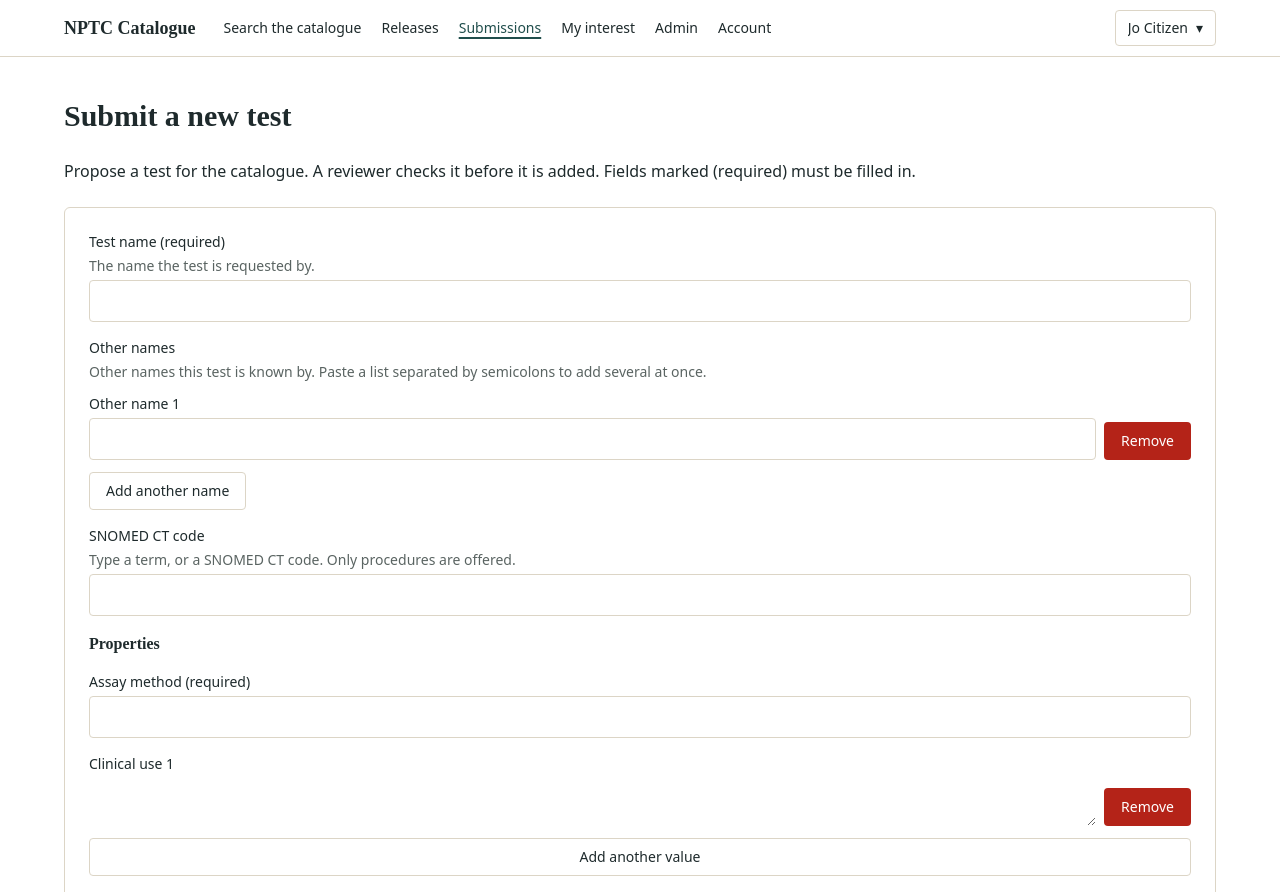
Test: SubmissionNewPage fields › keeps the values of two different properties as each is edited
The width and height of the screenshot is (1280, 892).
Expected: the field labelled "Test name (required)" is shown, x1=89 y1=280 x2=1191 y2=322
In the field labelled "Assay method (required)": (640, 716) x1=89 y1=696 x2=1191 y2=738, type "Immunoassay"
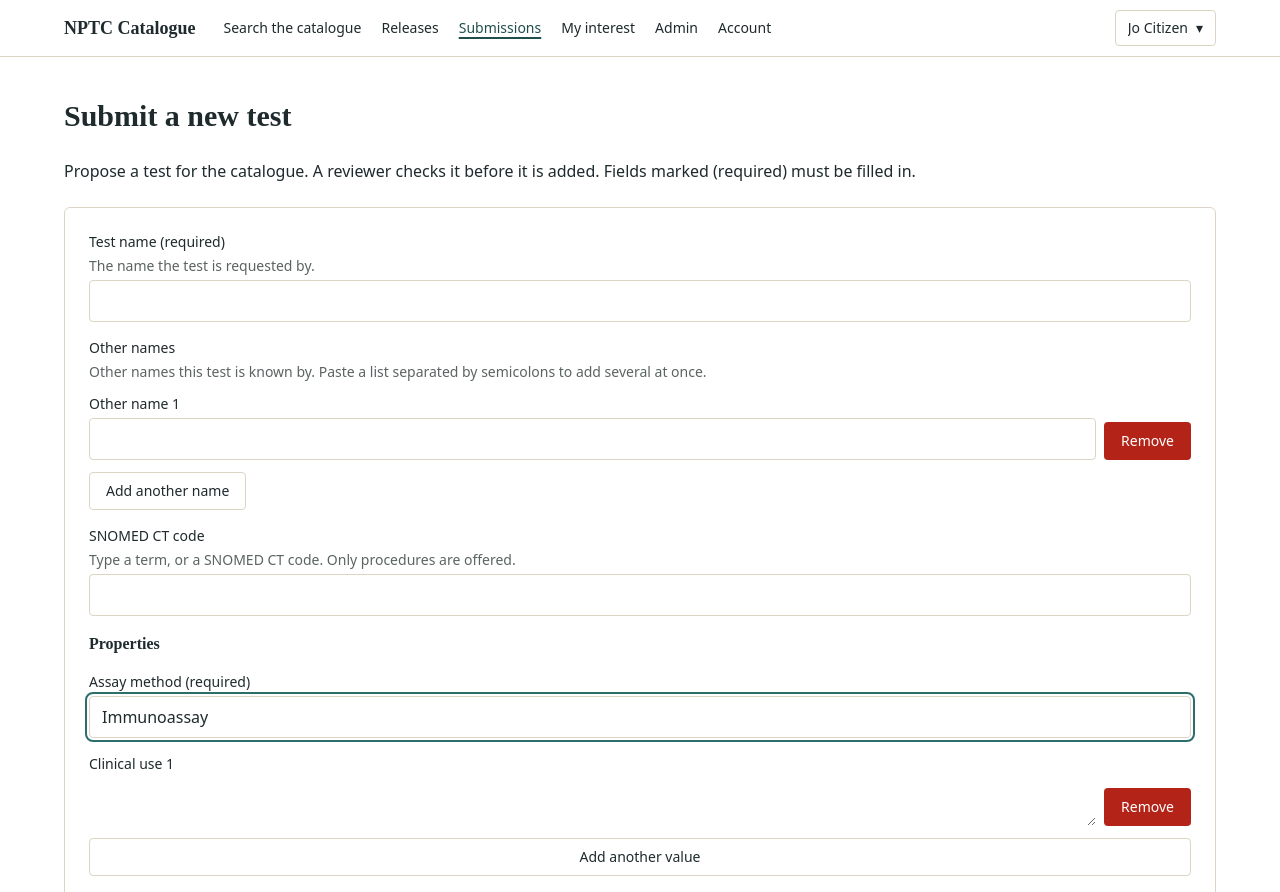
In the text box labelled "Clinical use 1": (593, 802) x1=89 y1=778 x2=1096 y2=826, type "Iron stores"
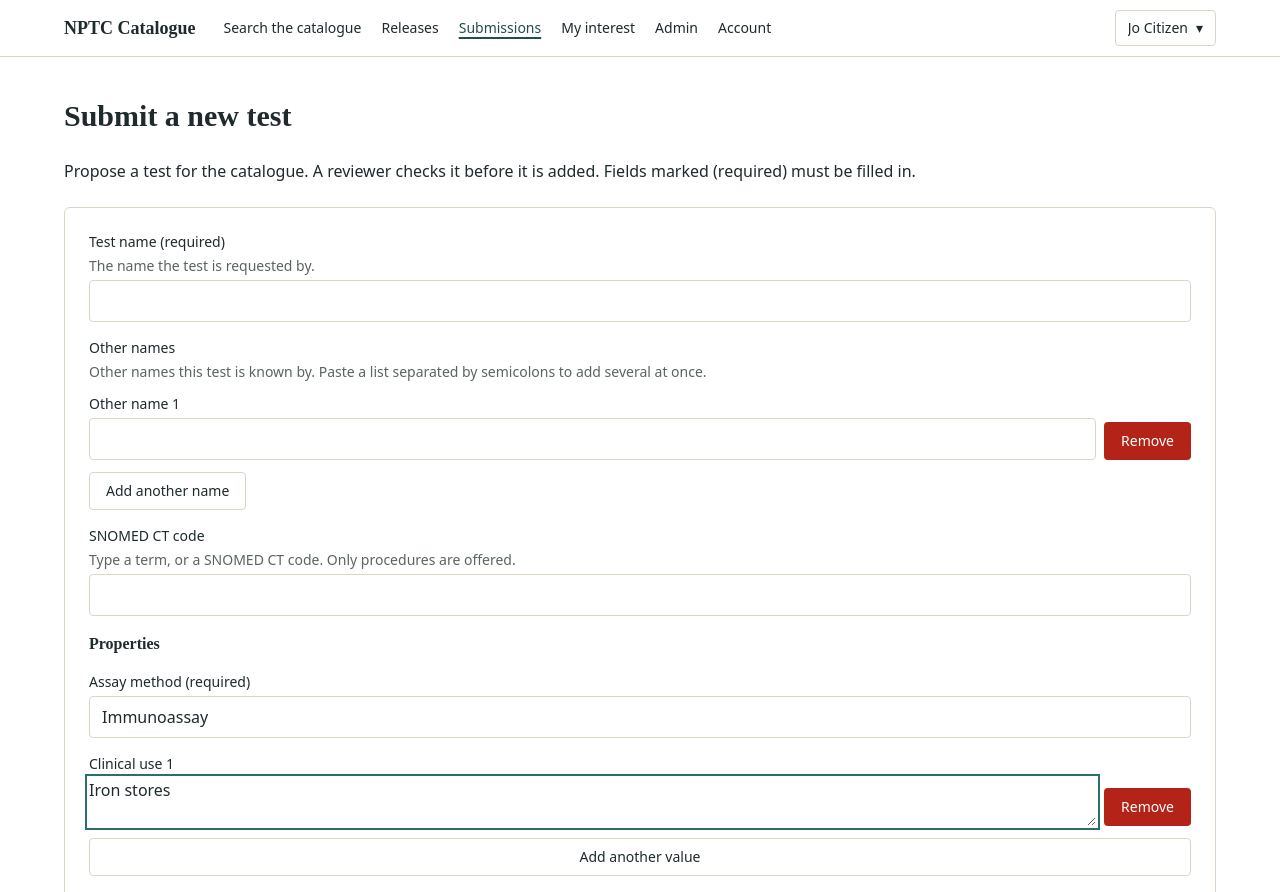
In the field labelled "Assay method (required)": (640, 716) x1=89 y1=696 x2=1191 y2=738, type " (batch)"
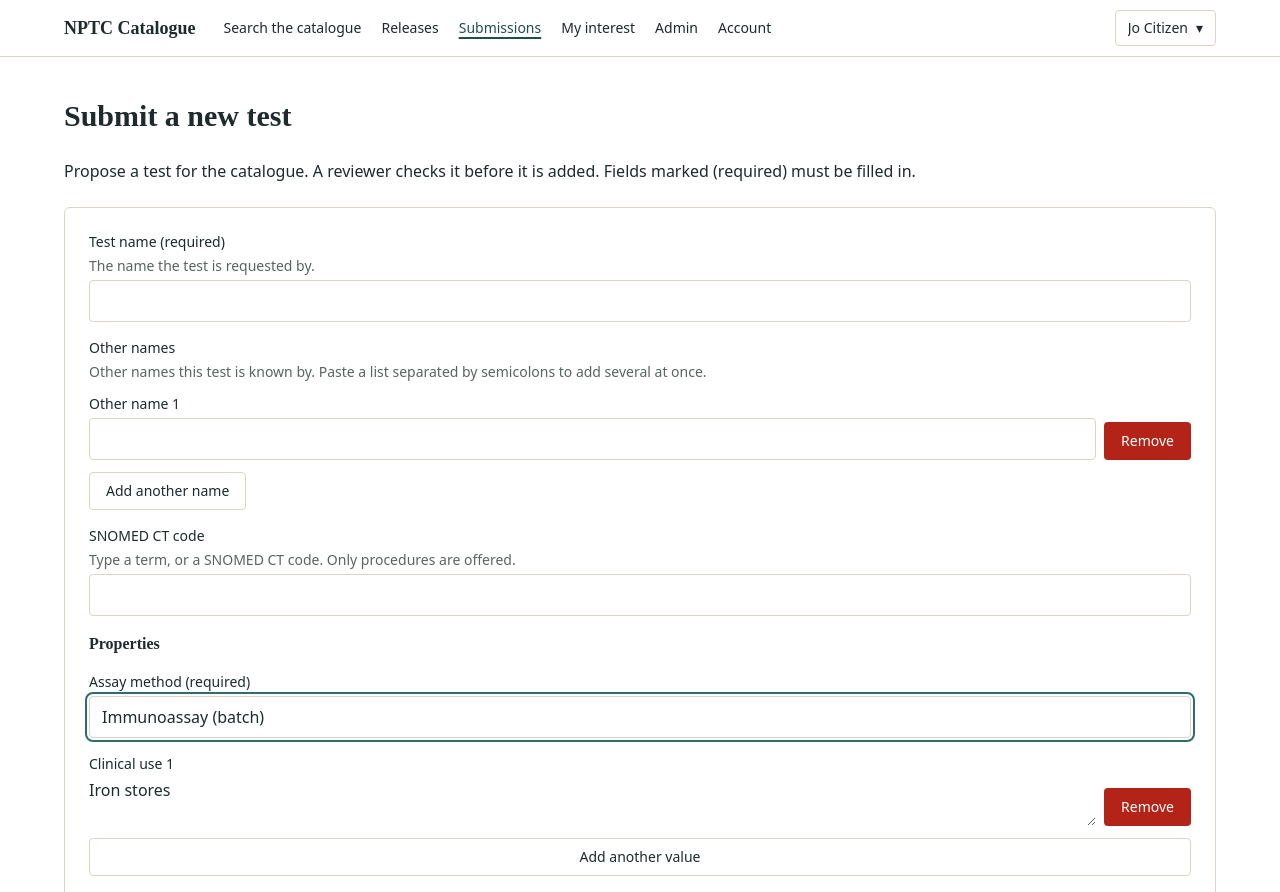
Expected: the field labelled "Assay method (required)" holds "Immunoassay (batch)", x1=89 y1=696 x2=1191 y2=738
